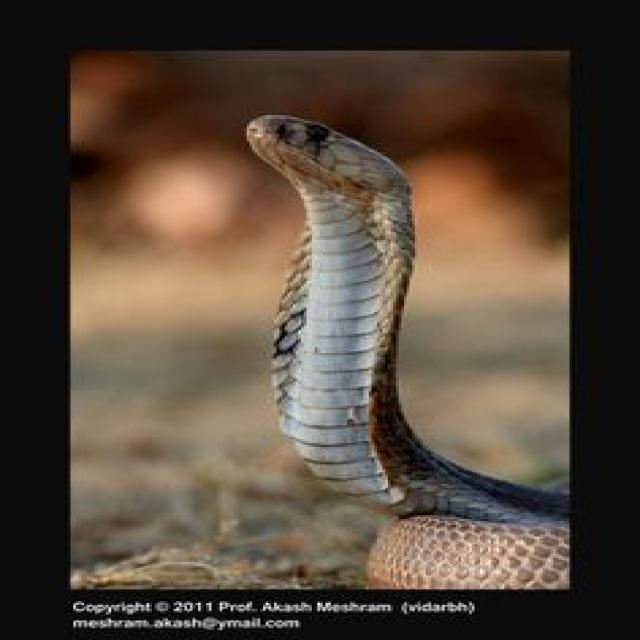Snake: (242, 111, 570, 589)
